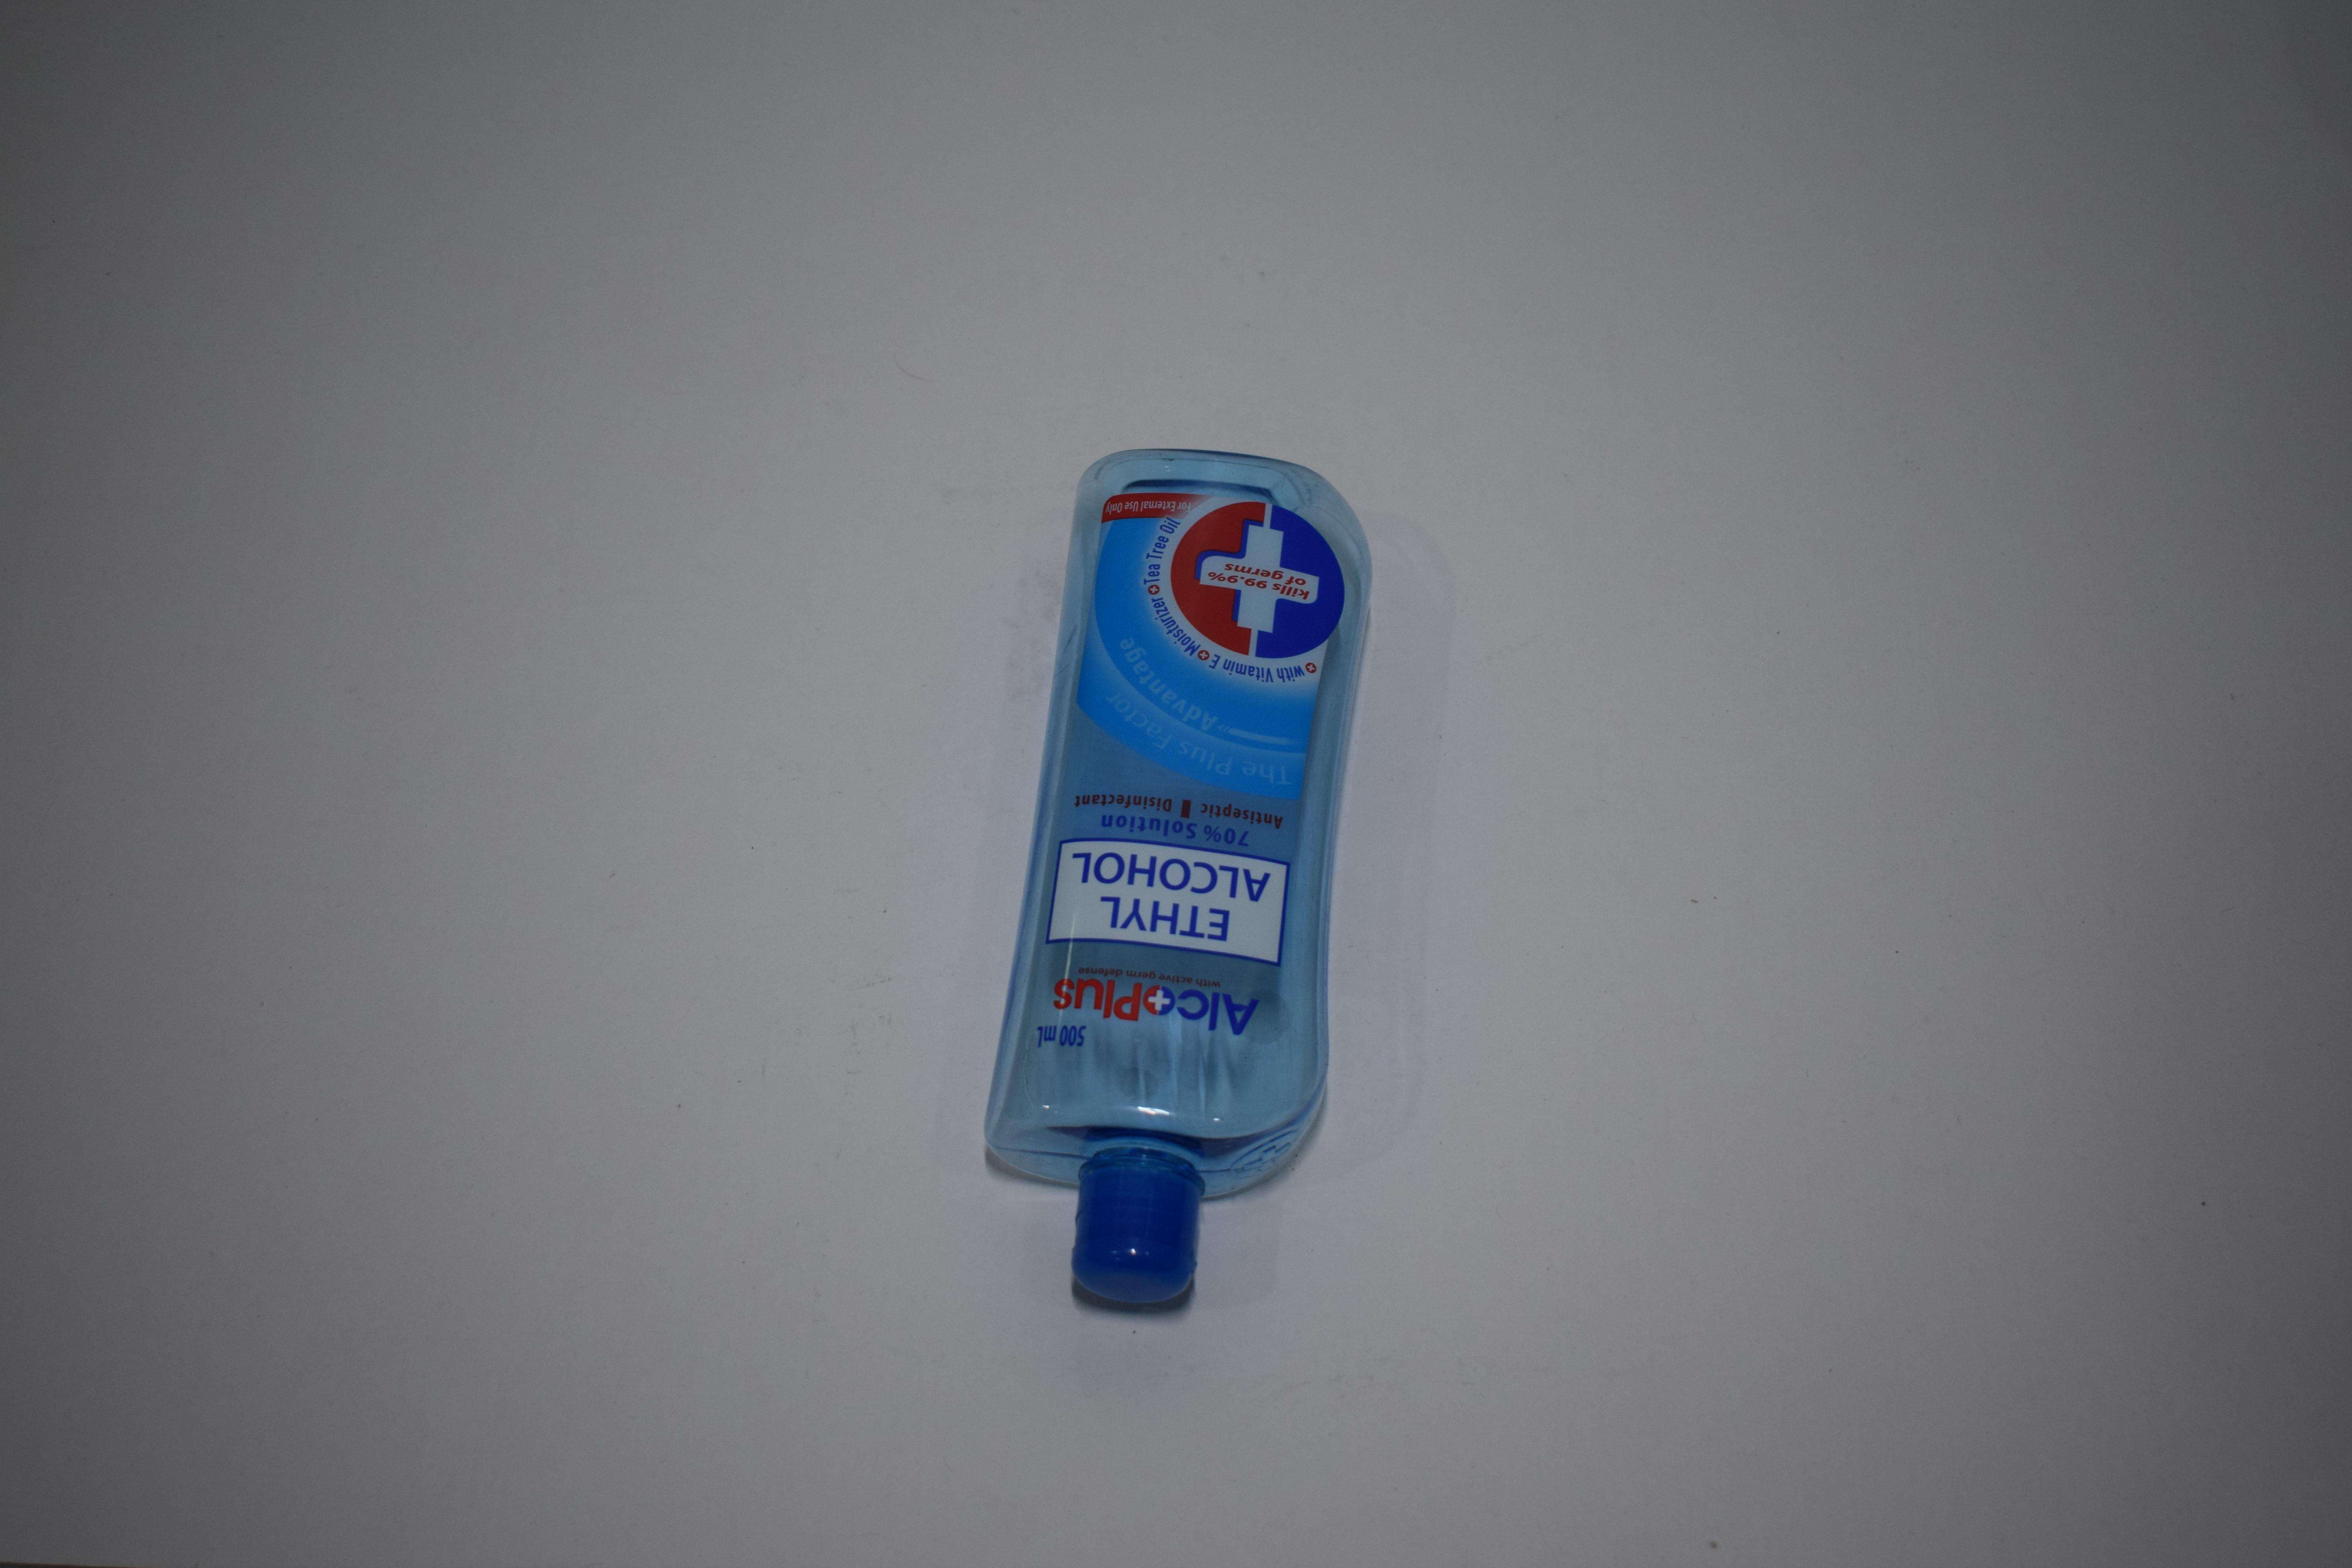bottle: (976, 47, 1369, 142)
